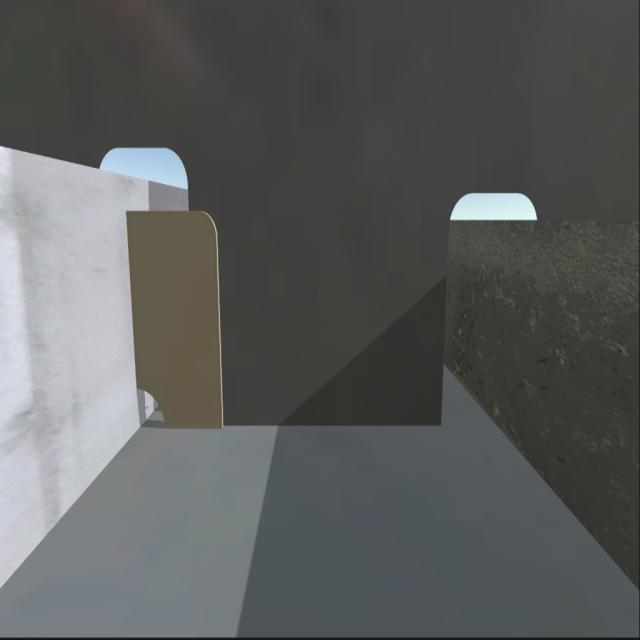fillet_hole: (135, 376, 175, 429)
fillet_yong_jeop_jang: (167, 420, 443, 440)
longi_yong_jeop_jang: (126, 208, 139, 390)
plate_CP05: (134, 202, 218, 430)
